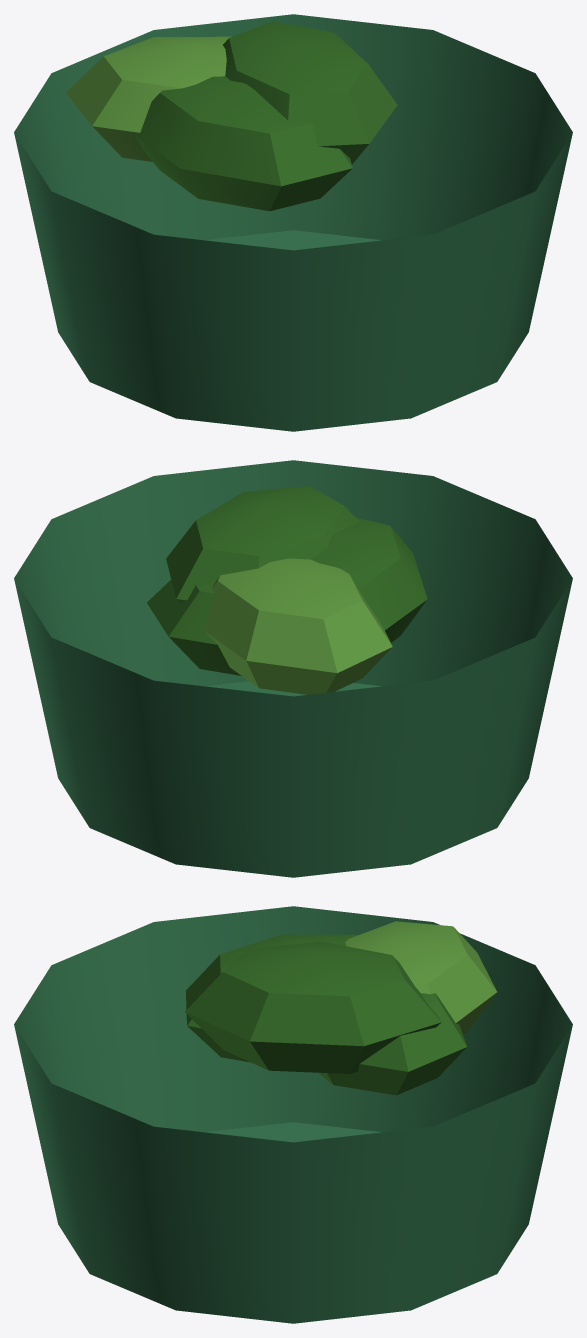
Rendered from ro_rau.glb.
The picture shows the model from 3 angles, top to bottom: view 1: azimuth 30°, elevation 25°; view 2: azimuth 150°, elevation 25°; view 3: azimuth 270°, elevation 25°; orthographic projection.
Visible parts, largest first — view 1: ro_rau; view 2: ro_rau; view 3: ro_rau.
Part boxes in pixels (x1=…): ro_rau: x1=14, y1=14, x2=572, y2=431; ro_rau: x1=14, y1=460, x2=572, y2=877; ro_rau: x1=14, y1=906, x2=572, y2=1323.
Size of the model in its own units: 0.38 by 0.2085 by 0.38.
